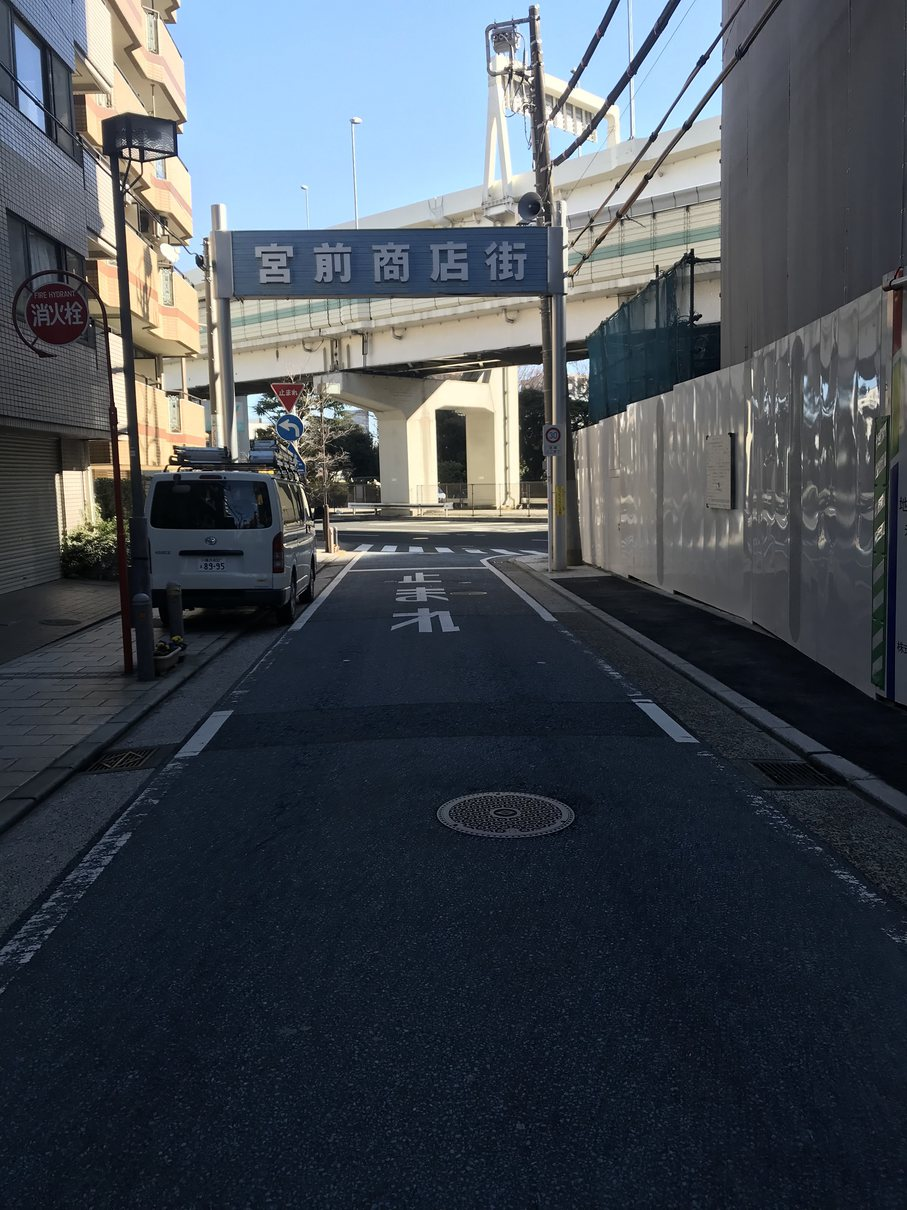stop_sign: (269, 380, 306, 413)
